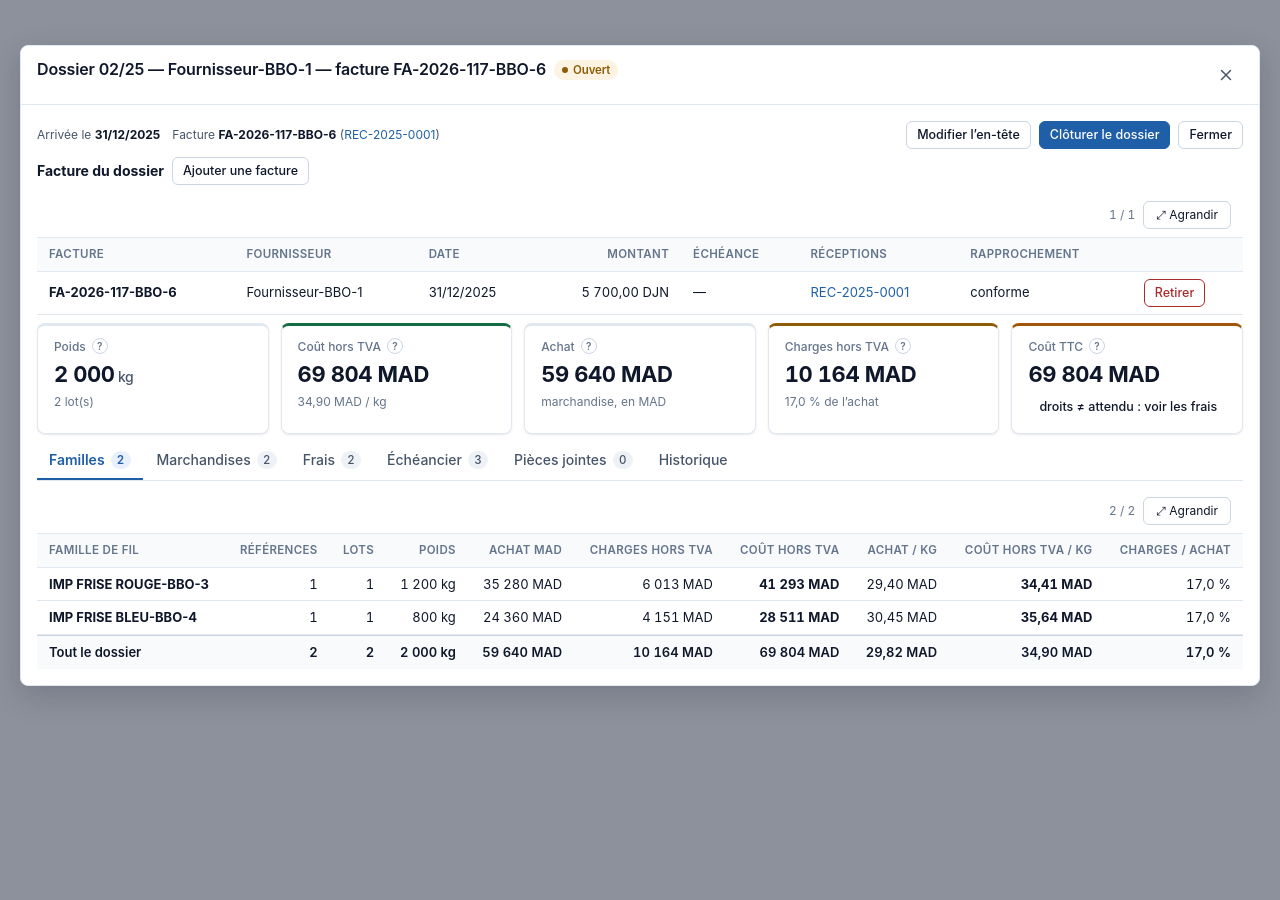
Fiche dossier › clôture › la confirmation énumère les alertes du serveur et envoie alertes_lues
Click the button "Clôturer le dossier": (1105, 135) [1039,121,1170,149]
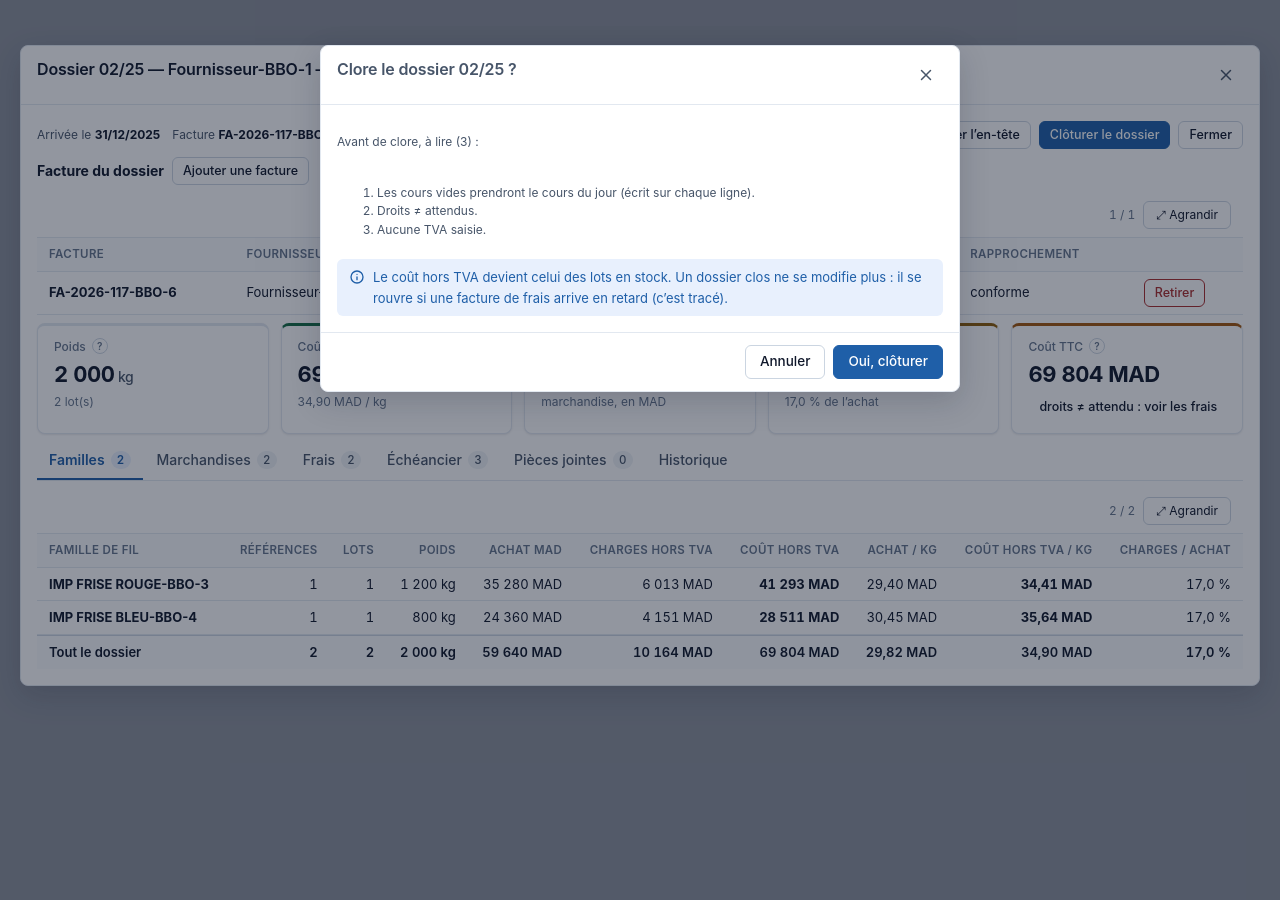
Result: the list items read "Les cours vides prendront le cours du jour (écrit sur chaque ligne).", "Droits ≠ attendus.", "Aucune TVA saisie.", in this order at [377,185,755,200]; [377,203,478,218]; [377,222,486,237]
Click the button "Oui, clôturer": (888, 362) [833,345,943,379]
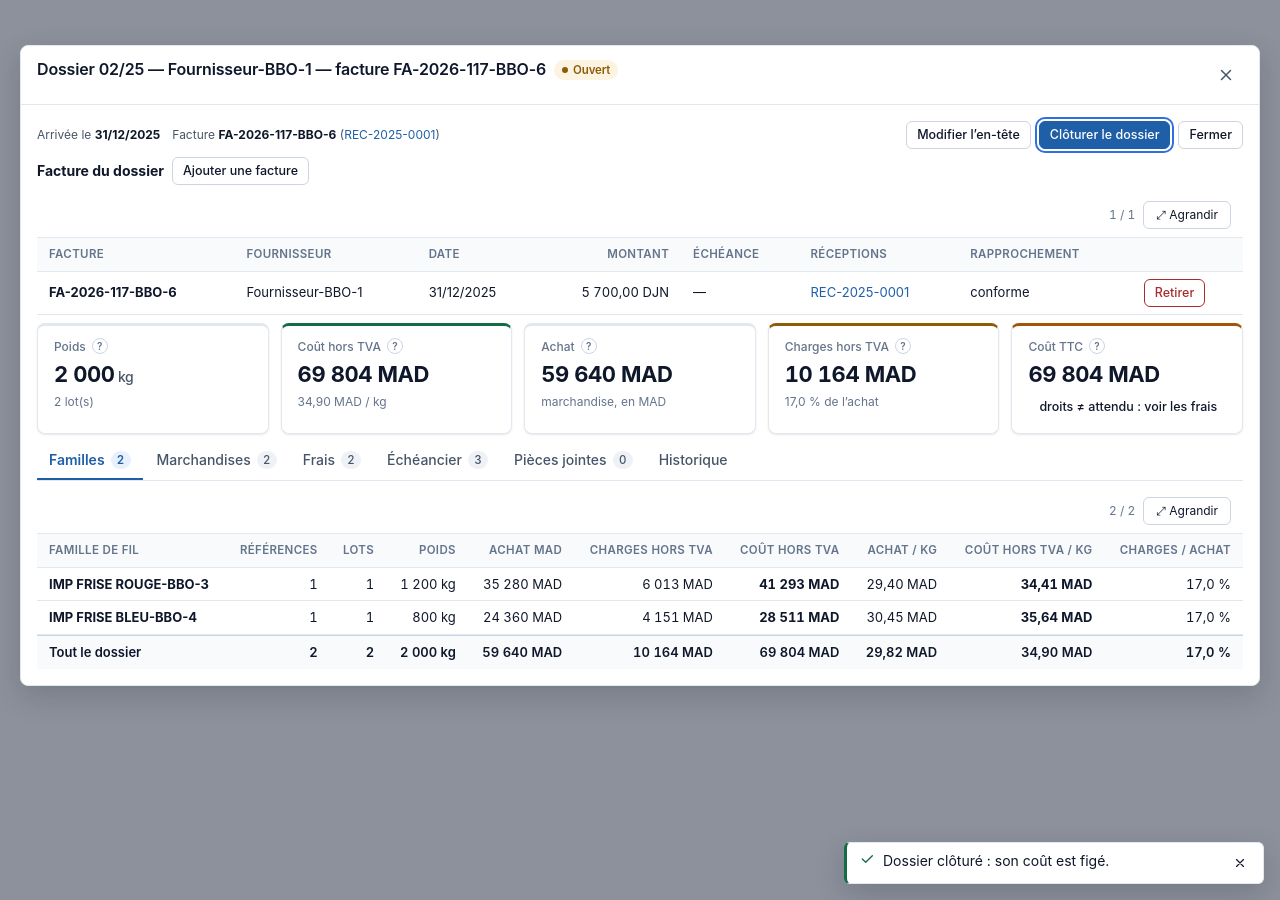
Result: the text "Dossier clôturé : son coût est figé." is shown at [883,852,1109,869]
